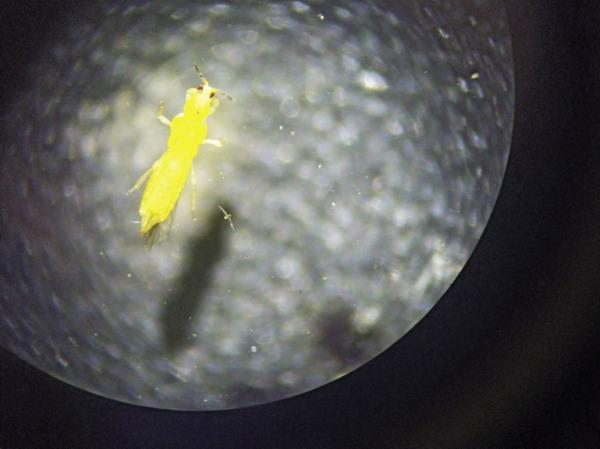tiny_pests: (117, 60, 253, 251)
